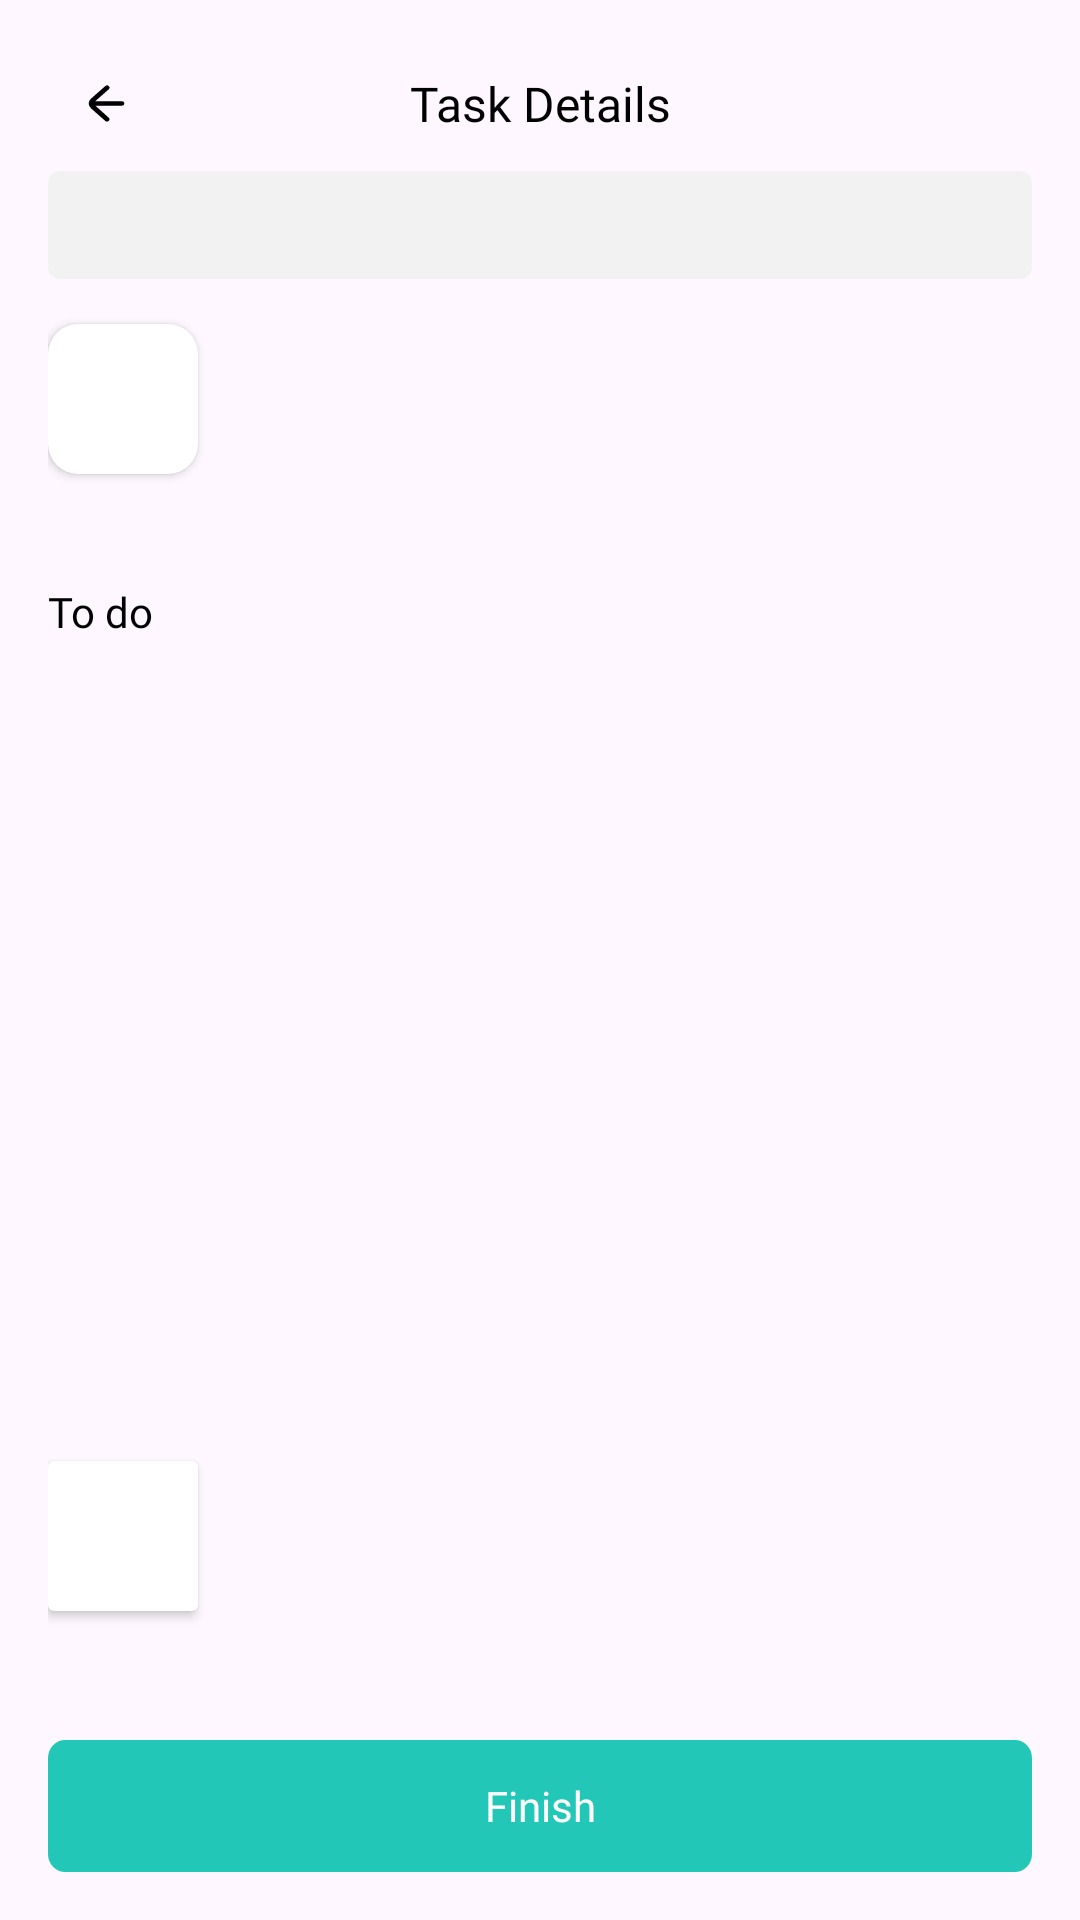

Named icons in this screenshot (1080x1920) and their centers, (x=x, y=y):
back: (x=106, y=103)
